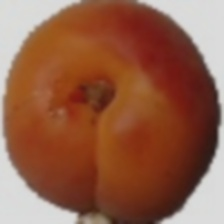apricot: (57, 56, 204, 207)
